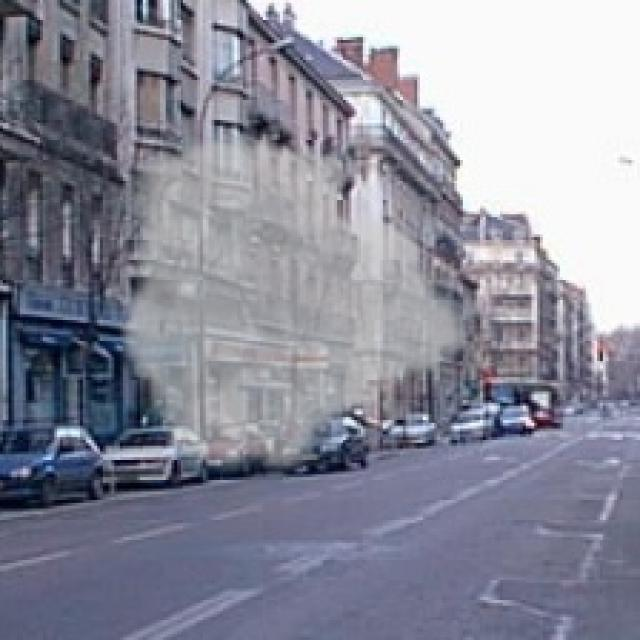Smoke: (114, 128, 474, 483)
